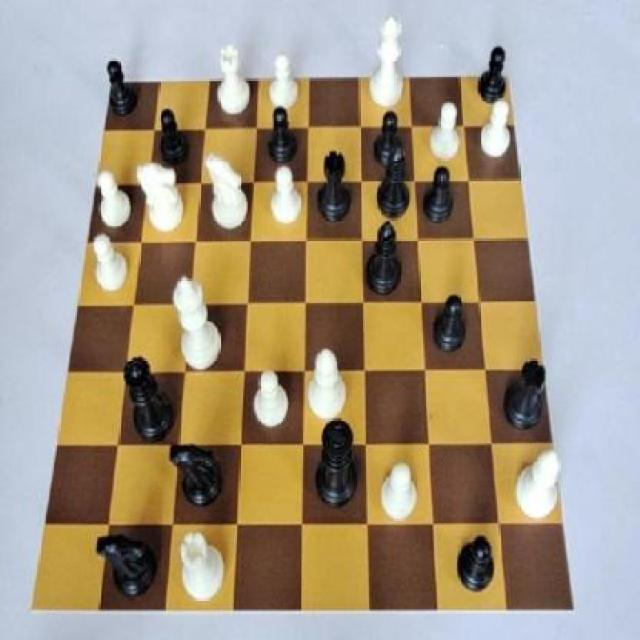bishop: (362, 214, 408, 308), (374, 138, 415, 232)
black-bishop: (309, 411, 363, 520)
black-king: (90, 520, 164, 608), (164, 434, 232, 518)
black-knight: (451, 530, 502, 604), (150, 104, 198, 174), (100, 55, 146, 124), (474, 40, 517, 112), (431, 292, 475, 357), (418, 168, 462, 230), (264, 103, 306, 166), (372, 111, 406, 175)
black-pawn: (119, 351, 180, 451)
black-queen: (500, 354, 552, 441), (312, 143, 356, 229)
black-rook: (508, 443, 568, 531), (308, 345, 349, 432)
white-bishop: (172, 270, 227, 382)
white-king: (203, 148, 254, 242), (134, 159, 188, 236)
white-knight: (84, 232, 136, 306), (376, 458, 426, 524), (423, 97, 465, 174), (471, 94, 512, 171), (248, 368, 296, 432), (268, 50, 306, 126), (263, 166, 308, 230), (96, 165, 136, 232)
white-pawn: (364, 11, 408, 111)
white-queen: (209, 41, 257, 120), (177, 528, 226, 603)
